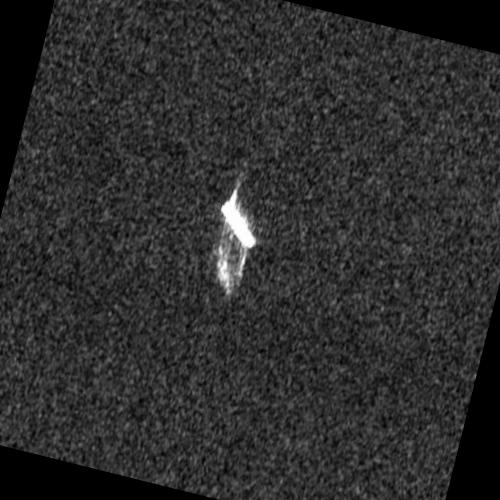ship: (219, 199, 257, 250)
